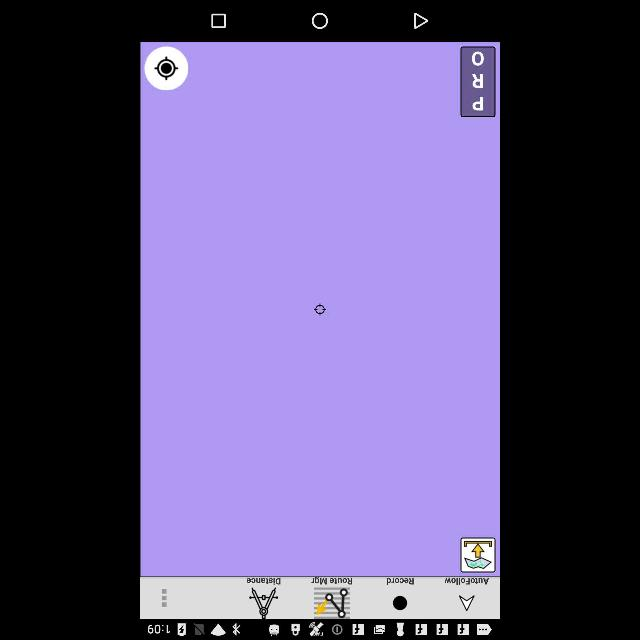icon: (312, 12, 328, 28), (414, 14, 428, 28), (212, 14, 226, 28), (161, 584, 167, 608)
image: (311, 587, 351, 617), (248, 585, 280, 619), (458, 595, 476, 611), (392, 596, 408, 610)
map: (140, 41, 500, 576)
panel: (140, 1, 500, 42)
text: (445, 578, 489, 584), (311, 577, 354, 583), (245, 577, 281, 583), (386, 578, 414, 584)
toolbar: (140, 578, 500, 618)
uppertaskbar: (140, 620, 500, 640)
